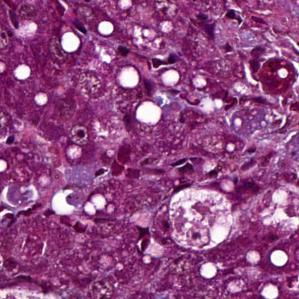ballooning: (168, 188, 235, 253)
